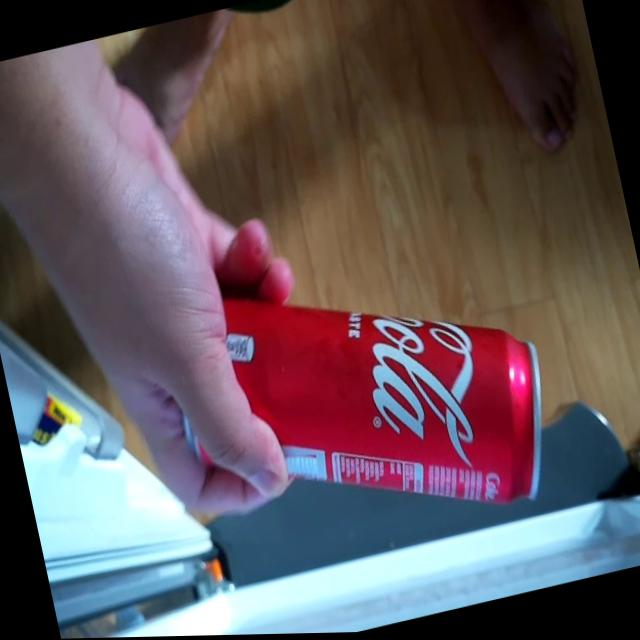coke: (152, 210, 574, 578)
